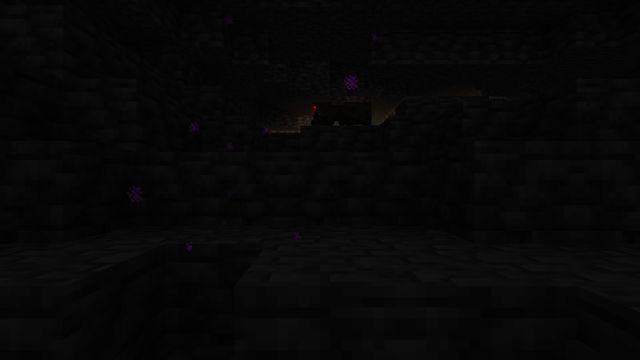araignees: (312, 93, 364, 124)
